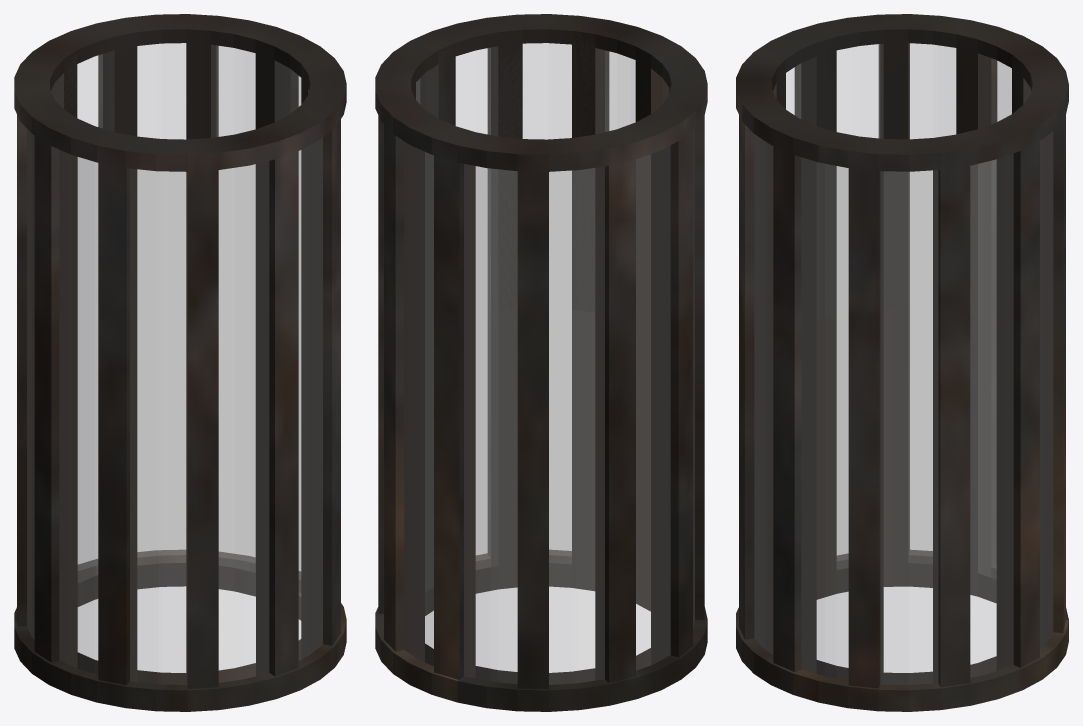
Rendered from Tüp.fbx.
The picture shows the model from 3 angles, left to right: view 1: azimuth 30°, elevation 25°; view 2: azimuth 150°, elevation 25°; view 3: azimuth 270°, elevation 25°; orthographic projection.
Parts seen in each view (by area): view 1: Cylinder; view 2: Cylinder; view 3: Cylinder.
Boxes of the visible parts, left/top/right/bottom form: Cylinder: left=14, top=14, right=346, bottom=711; Cylinder: left=375, top=14, right=707, bottom=711; Cylinder: left=736, top=14, right=1068, bottom=711.
Bounding box in the file's own units: 616 × 1137 × 616.
2 materials, 1 textured.
